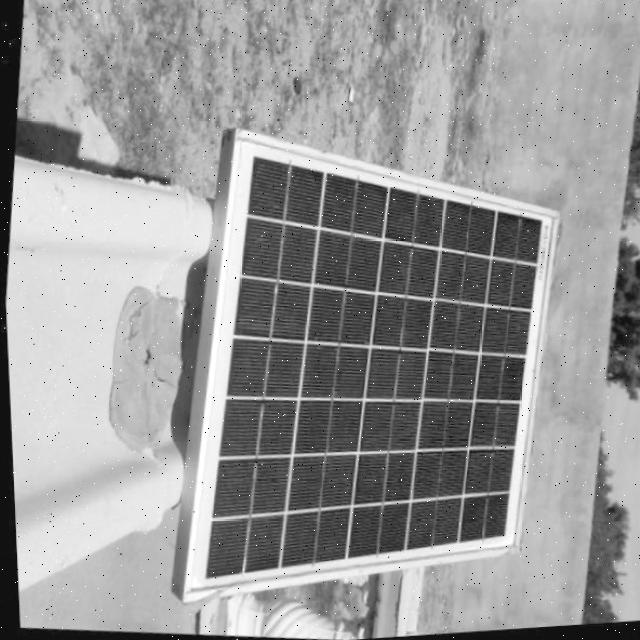Normal Solar Panel: (160, 120, 576, 640)
